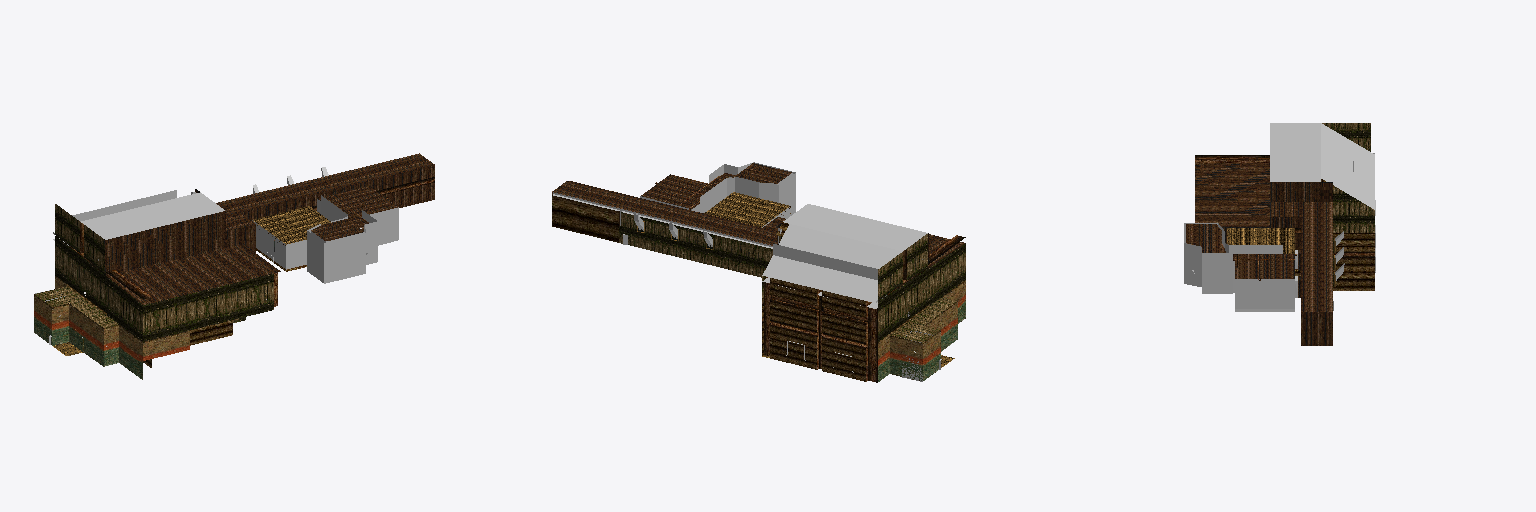
3 renders of one model, left to right at view 1: azimuth 30°, elevation 25°; view 2: azimuth 150°, elevation 25°; view 3: azimuth 270°, elevation 25°, orthographic.
Visible parts, largest first — view 1: #Room0#_Wall_Room0#Wood_PlankWood., #Room0#_Wall_Room0#Wood_Wood.001., #Room0#_Wall_Room0#Wood_PaperWall., #Room3#_Black#NoCollision_BlackColor.001., #Room0#_Roof#Wood_Roof., #Room3#_Room3#PlankWood_PlankWood., #Room1#_Room1#PlankWood_SmallPlankWood., #Room1#_Room1#PlankWood_Red_Carpet., #Room0#_CollisionCube#NoMesh_collision.#NoMesh, #Room3#_Room3#PlankWood_Painting., #Room0#_Wall_Room0#Wood_Wood.008., #Room0#_Stake_Room0#Wood#Hookshot_Bar.; view 2: #Room0#_Wall_Room0#Wood_Wood.001., #Room0#_Wall_Room0#Wood_Wood.008., #Room0#_Roof#Wood_Roof., #Room0#_Wall_Room0#Wood_PlankWood., #Room0#_Wall_Room0#Wood_PaperWall., #Room0#_Stake_Room0#Wood#Hookshot_Bar., #Room3#_Room3#PlankWood_PlankWood., #Room3#_Black#NoCollision_BlackColor.001., #Room1#_Room1#PlankWood_SmallPlankWood., #Room0#_CollisionCube#NoMesh_collision.#NoMesh, #Room0#_Wall_Room0#Wood_TreeSkin.; view 3: #Room0#_Wall_Room0#Wood_PlankWood., #Room0#_Roof#Wood_Roof., #Room3#_Black#NoCollision_BlackColor.001., #Room3#_Room3#PlankWood_PlankWood., #Room0#_Wall_Room0#Wood_Wood.001., #Room0#_Wall_Room0#Wood_Wood.008., #Room3#_Room3#PlankWood_Painting., #Room1#_Room1#PlankWood_SmallPlankWood., #Room0#_Stake_Room0#Wood#Hookshot_Bar..
Boxes of the visible parts, <box> form: #Room0#_Wall_Room0#Wood_PlankWood.: <box>104,153,434,304</box>; #Room0#_Wall_Room0#Wood_Wood.001.: <box>35,204,273,341</box>; #Room0#_Wall_Room0#Wood_PaperWall.: <box>34,276,189,379</box>; #Room3#_Black#NoCollision_BlackColor.001.: <box>307,195,377,283</box>; #Room0#_Roof#Wood_Roof.: <box>81,192,224,239</box>; #Room3#_Room3#PlankWood_PlankWood.: <box>311,185,397,240</box>; #Room1#_Room1#PlankWood_SmallPlankWood.: <box>253,206,330,244</box>; #Room1#_Room1#PlankWood_Red_Carpet.: <box>252,220,306,269</box>; #Room0#_CollisionCube#NoMesh_collision.#NoMesh: <box>53,190,176,245</box>; #Room3#_Room3#PlankWood_Painting.: <box>317,199,398,242</box>; #Room0#_Wall_Room0#Wood_Wood.008.: <box>143,320,232,367</box>; #Room0#_Stake_Room0#Wood#Hookshot_Bar.: <box>69,222,277,306</box>; #Room0#_Wall_Room0#Wood_Wood.001.: <box>619,212,965,342</box>; #Room0#_Wall_Room0#Wood_Wood.008.: <box>552,195,865,381</box>; #Room0#_Roof#Wood_Roof.: <box>762,204,927,302</box>; #Room0#_Wall_Room0#Wood_PlankWood.: <box>552,181,964,267</box>; #Room0#_Wall_Room0#Wood_PaperWall.: <box>878,280,965,381</box>; #Room0#_Stake_Room0#Wood#Hookshot_Bar.: <box>764,235,965,382</box>; #Room3#_Room3#PlankWood_PlankWood.: <box>641,163,791,208</box>; #Room3#_Black#NoCollision_BlackColor.001.: <box>700,162,795,215</box>; #Room1#_Room1#PlankWood_SmallPlankWood.: <box>704,192,789,227</box>; #Room0#_CollisionCube#NoMesh_collision.#NoMesh: <box>762,244,886,308</box>; #Room0#_Wall_Room0#Wood_TreeSkin.: <box>553,192,781,248</box>; #Room0#_Wall_Room0#Wood_PlankWood.: <box>1195,163,1332,345</box>; #Room0#_Roof#Wood_Roof.: <box>1270,123,1374,209</box>; #Room3#_Black#NoCollision_BlackColor.001.: <box>1184,223,1282,293</box>; #Room3#_Room3#PlankWood_PlankWood.: <box>1186,224,1294,278</box>; #Room0#_Wall_Room0#Wood_Wood.001.: <box>1322,123,1374,286</box>; #Room0#_Wall_Room0#Wood_Wood.008.: <box>1295,179,1374,290</box>; #Room3#_Room3#PlankWood_Painting.: <box>1235,279,1294,308</box>; #Room1#_Room1#PlankWood_SmallPlankWood.: <box>1227,228,1294,253</box>; #Room0#_Stake_Room0#Wood#Hookshot_Bar.: <box>1195,155,1269,164</box>.
Size of the model in its own units: 2303 by 665 by 1014.
100 materials, 39 textured.